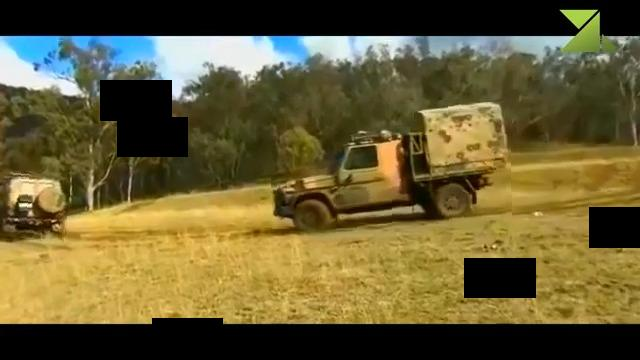MIL_HMMWV: (271, 100, 512, 229), (0, 172, 69, 241)
